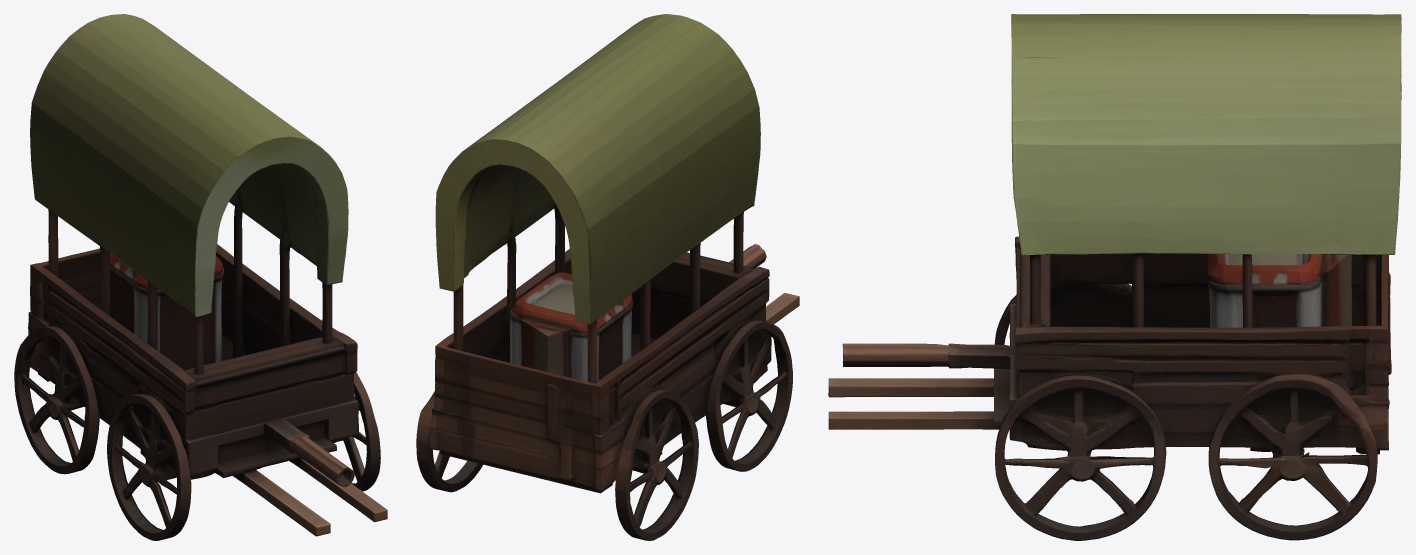
Rendered from voxhammer_t06.glb.
3 renders of one model, left to right at view 1: azimuth 30°, elevation 25°; view 2: azimuth 150°, elevation 25°; view 3: azimuth 270°, elevation 25°, orthographic. The views are drawn at different scales.
Visible parts, largest first — view 1: geometry_0; view 2: geometry_0; view 3: geometry_0.
Boxes of the visible parts, bbox=[...] form: geometry_0: bbox=[14, 14, 387, 540]; geometry_0: bbox=[416, 14, 799, 540]; geometry_0: bbox=[828, 14, 1401, 540].
Bounding box in the file's own units: 0.9617 × 1.77 × 1.99.
1 material, 1 textured.
